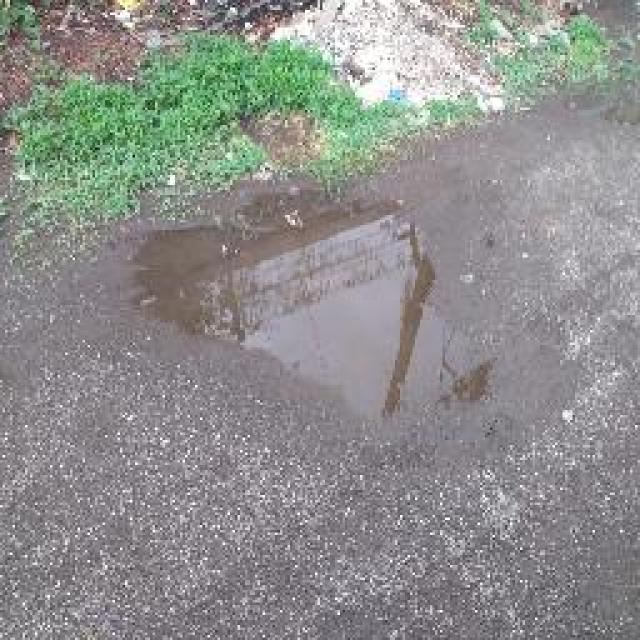stagnation: (100, 182, 512, 455)
